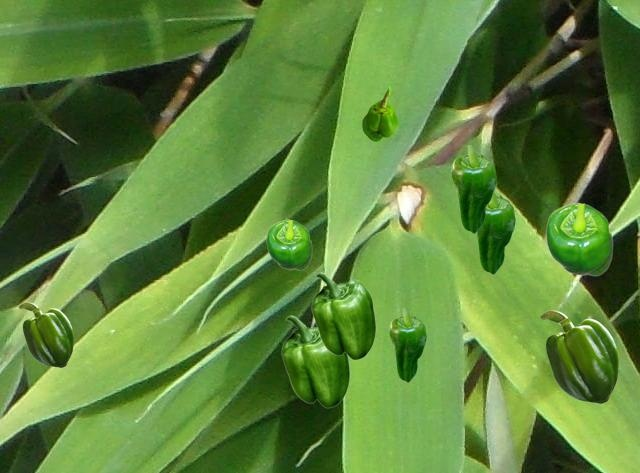bell_pepper: (539, 310, 617, 402), (281, 315, 349, 407), (311, 272, 375, 359), (545, 202, 612, 275), (451, 145, 495, 232), (18, 302, 72, 366), (476, 191, 514, 273), (389, 308, 425, 381), (266, 219, 311, 269), (362, 86, 397, 140)
